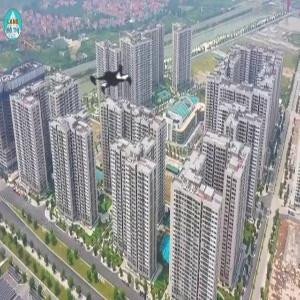drone: (71, 38, 154, 121)
